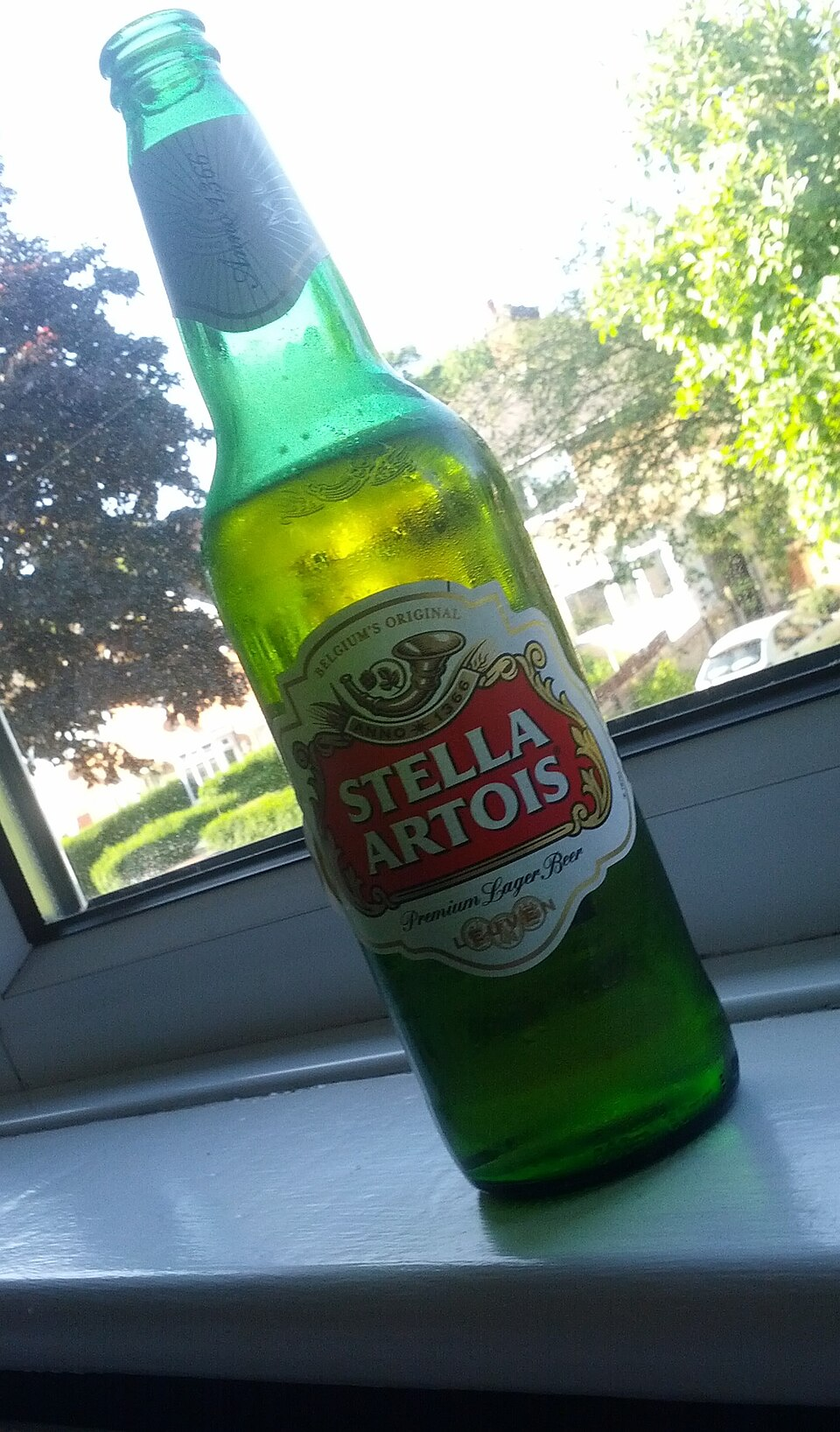beer-bottle: (94, 9, 745, 1217)
